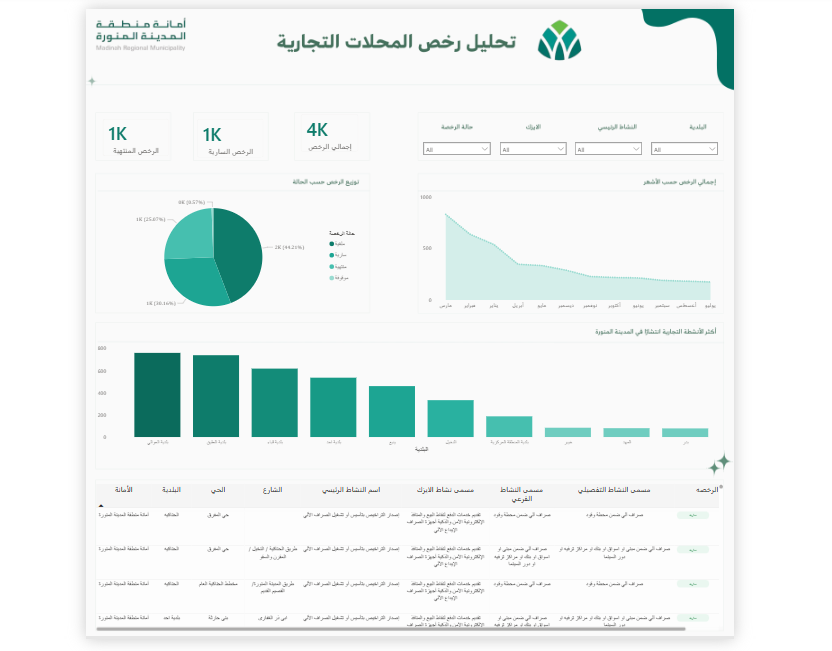

The page's visual inventory and layout, read from the dashboard file:
{"tool":"powerbi","page":{"name":"Overview","canvas":[1440,1400],"ordinal":0},"visuals":[{"type":"cardVisual","fields":{"Data":["Sheet1.Active Licenses"]},"box":[231.4,225.7,181.4,120],"z":0},{"type":"cardVisual","fields":{"Data":["Sheet1.Expired Licenses"]},"box":[18.6,225.7,180,117.1],"z":1000},{"type":"cardVisual","fields":{"Data":["Sheet1.Total Licenses"]},"box":[460,217.1,162.9,117.1],"z":2000},{"type":"areaChart","fields":{"Y":["Sheet1.Total Licenses"],"Category":["Sheet1.Month Arabic"]},"box":[735.7,404.3,677.1,272.9],"z":3000},{"type":"clusteredColumnChart","title":"أكثر الأنشطة التجارية انتشارًا في المدينة","fields":{"Category":["Sheet1.البلدية"],"Y":["Sheet1.Total Licenses"]},"box":[18.6,740,1421.4,252.9],"z":4000},{"type":"tableEx","fields":{"Values":["Sheet1.الأمانة","Sheet1.البلدية","Sheet1.الحي","Sheet1.الشارع","Sheet1.اسم النشاط الرئيسي","Sheet1.مسمى نشاط الايزك","Sheet1.مسمى النشاط الفرعي","Sheet1.مسمى النشاط التفصيلي","Sheet1.License Status Badge"]},"box":[18,1051,1404,337],"z":5000},{"type":"pieChart","fields":{"Category":["Sheet1.حالة الرخصة"],"Y":["Sheet1.Total Licenses"]},"box":[18.6,404.3,604.3,295.7],"z":6000},{"type":"slicer","title":"البلدية","fields":{"Values":["Sheet1.البلدية"]},"box":[1245.7,285.7,167.1,80],"z":7000},{"type":"slicer","title":"النشاط الرئيسي","fields":{"Values":["Sheet1.اسم النشاط الرئيسي"]},"box":[1077.1,285.7,168.6,80],"z":8000},{"type":"slicer","title":"نشاط الايزك","fields":{"Values":["Sheet1.مسمى نشاط الايزك"]},"box":[910,285.7,167.1,84.3],"z":9000},{"type":"slicer","title":"حالة الرخصة","fields":{"Values":["Sheet1.حالة الرخصة"]},"box":[741.4,285.7,168.6,84.3],"z":10000}]}

Visuals, with their boxes on the page's 1440x1400 design canvas (x1, y1, x2, y2). These are canvas units, not pixel positions in the 832x651 screenshot, which may show the page scaled, cropped or inside an application window:
cardVisual - Sheet1.Active Licenses: region(231, 226, 413, 346)
cardVisual - Sheet1.Expired Licenses: region(19, 226, 199, 343)
cardVisual - Sheet1.Total Licenses: region(460, 217, 623, 334)
areaChart - Sheet1.Total Licenses x Sheet1.Month Arabic: region(736, 404, 1413, 677)
"أكثر الأنشطة التجارية انتشارًا في المدينة" clusteredColumnChart: region(19, 740, 1440, 993)
tableEx - Sheet1.الأمانة x Sheet1.البلدية: region(18, 1051, 1422, 1388)
pieChart - Sheet1.حالة الرخصة x Sheet1.Total Licenses: region(19, 404, 623, 700)
"البلدية" slicer: region(1246, 286, 1413, 366)
"النشاط الرئيسي" slicer: region(1077, 286, 1246, 366)
"نشاط الايزك" slicer: region(910, 286, 1077, 370)
"حالة الرخصة" slicer: region(741, 286, 910, 370)
